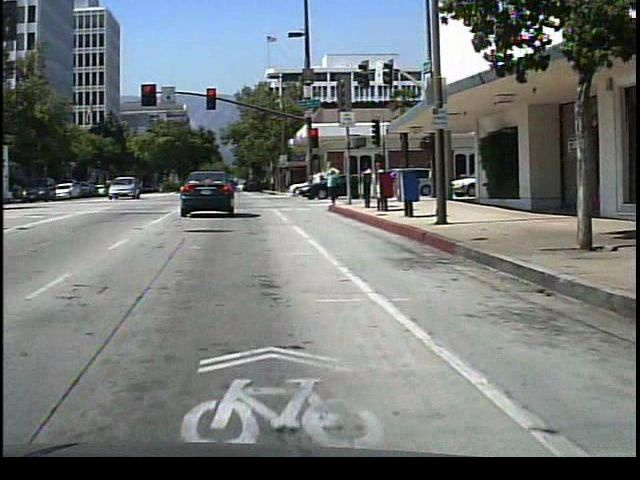person: (321, 153, 345, 210), (370, 156, 389, 203), (360, 159, 377, 200)
